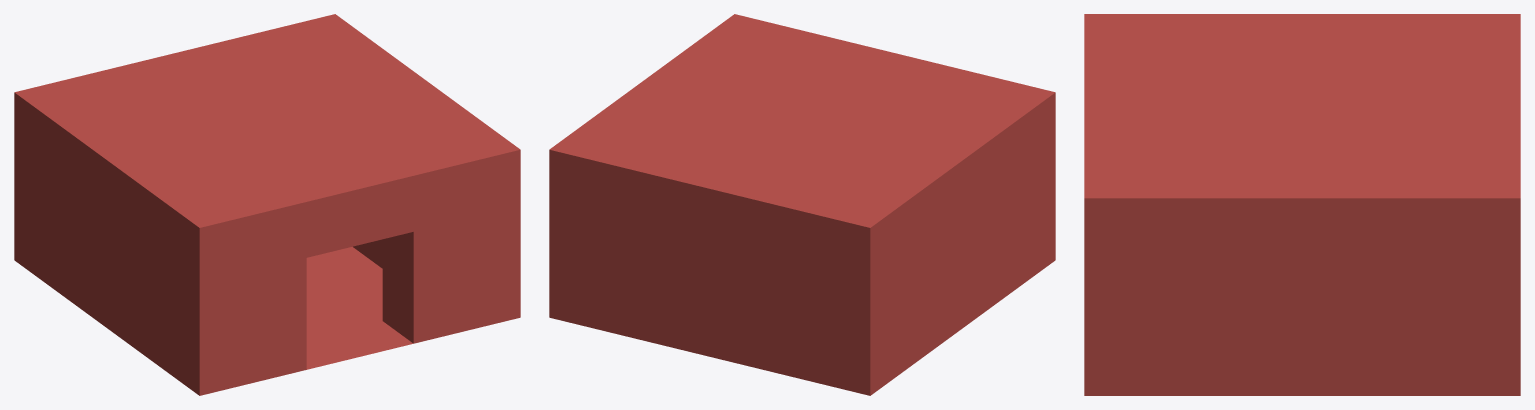
The model's file is 6x6 Storage.fbx.
The picture shows the model from 3 angles, left to right: view 1: azimuth 30°, elevation 25°; view 2: azimuth 150°, elevation 25°; view 3: azimuth 270°, elevation 25°; orthographic projection. The views are drawn at different scales.
Parts seen in each view (by area): view 1: 6x6 Storage; view 2: 6x6 Storage; view 3: 6x6 Storage.
Boxes of the visible parts, x1=… form: 6x6 Storage: x1=14, y1=14, x2=520, y2=395; 6x6 Storage: x1=549, y1=14, x2=1055, y2=395; 6x6 Storage: x1=1084, y1=14, x2=1520, y2=395.
Size of the model in its own units: 6 by 3 by 6.
